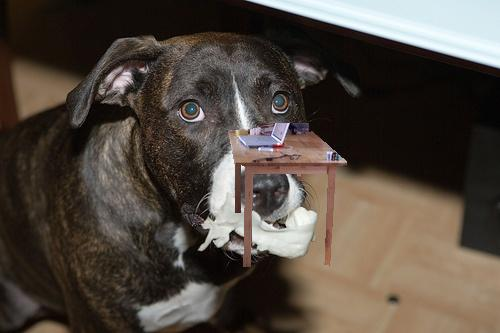tampered: (229, 124, 347, 267)
